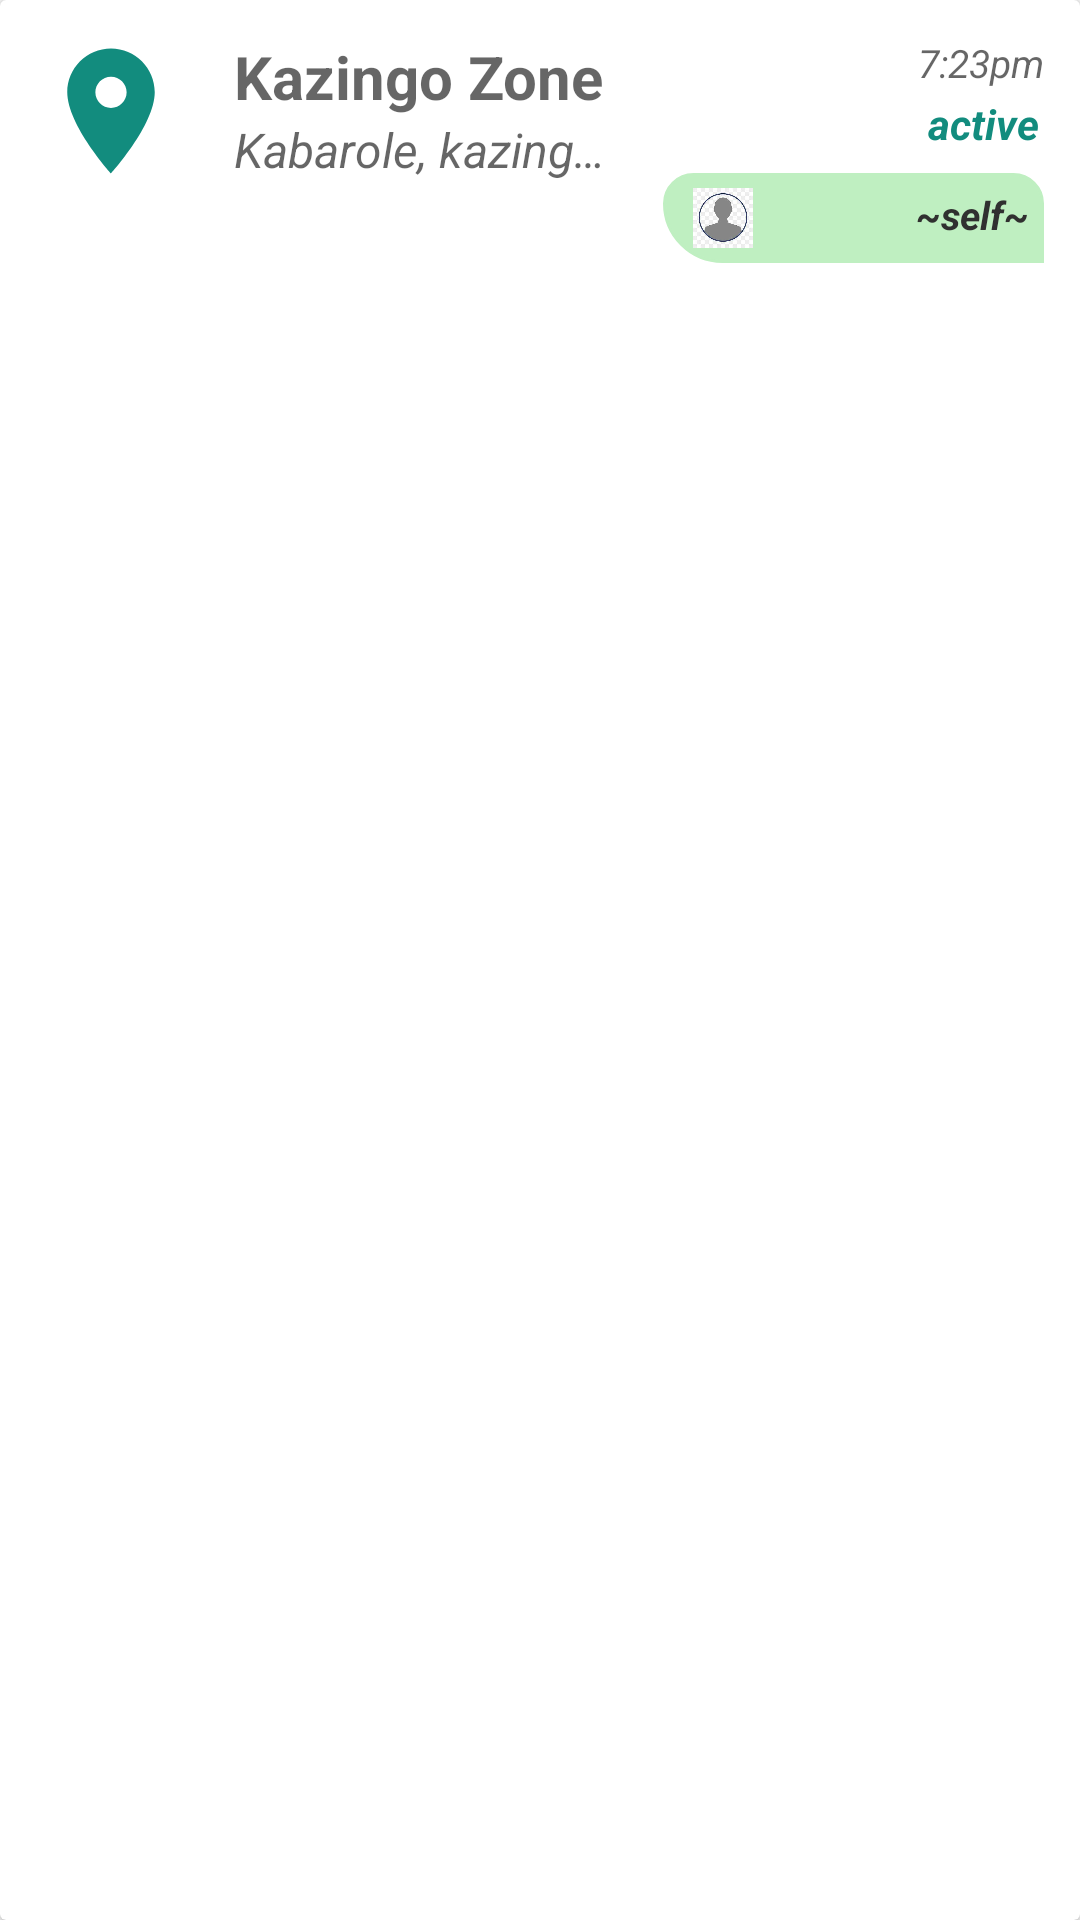

Icons on this 1080 × 1920 Android screen, each with the point to tap as (x=x, y=y):
location on: (x=111, y=111)
